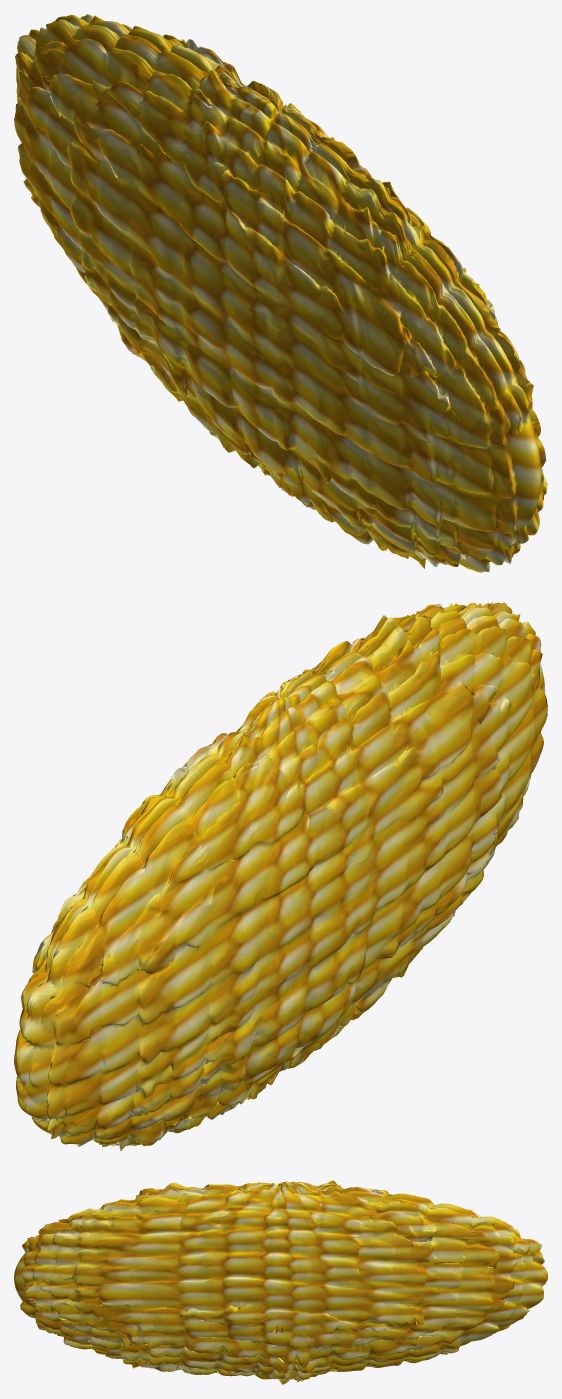
The model's file is cornv2.fbx.
3 renders of one model, top to bottom at view 1: azimuth 30°, elevation 25°; view 2: azimuth 150°, elevation 25°; view 3: azimuth 270°, elevation 25°, orthographic. The views are drawn at different scales.
Visible parts, largest first — view 1: pSphere1; view 2: pSphere1; view 3: pSphere1.
Boxes of the visible parts, <box> form: pSphere1: <box>14,14,547,572</box>; pSphere1: <box>14,602,547,1151</box>; pSphere1: <box>14,1180,547,1384</box>.
Bounding box in the file's own units: 0.169 × 0.7075 × 1.69.
1 material, 1 textured.
